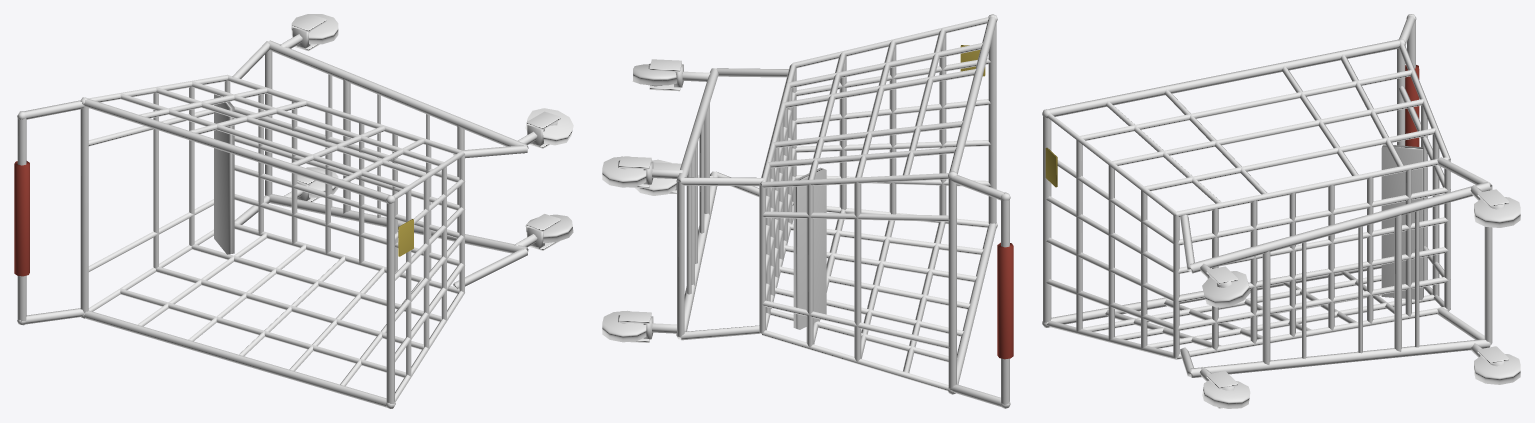
The model's file is shopping_cart_tipped.glb.
3 views of the same model, side by side, from view 1: azimuth 30°, elevation 25°; view 2: azimuth 150°, elevation 25°; view 3: azimuth 270°, elevation 25° (orthographic). The views are drawn at different scales.
Visible parts, largest first — view 1: shopping_cart_tipped; view 2: shopping_cart_tipped; view 3: shopping_cart_tipped.
Part boxes in pixels (x1,y1,x2,y2): shopping_cart_tipped: [14, 14, 573, 408]; shopping_cart_tipped: [602, 14, 1013, 408]; shopping_cart_tipped: [1042, 14, 1520, 408].
Size of what is drawn, in the model's own units: 1.33 by 0.6025 by 1.16.
